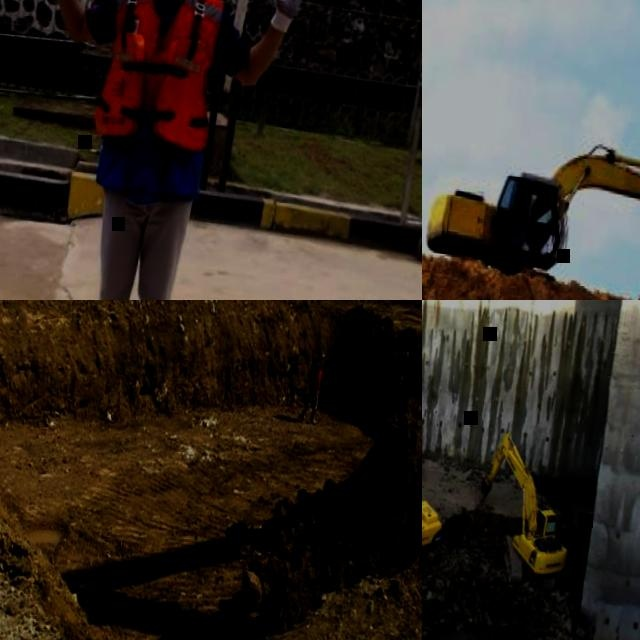Hardhat: (318, 349, 324, 355)
NO-Safety Vest: (308, 361, 323, 391)
Person: (0, 0, 324, 300), (298, 345, 325, 422)
Safety Vest: (93, 0, 227, 149)
machinery: (422, 123, 640, 300), (469, 425, 581, 593)
